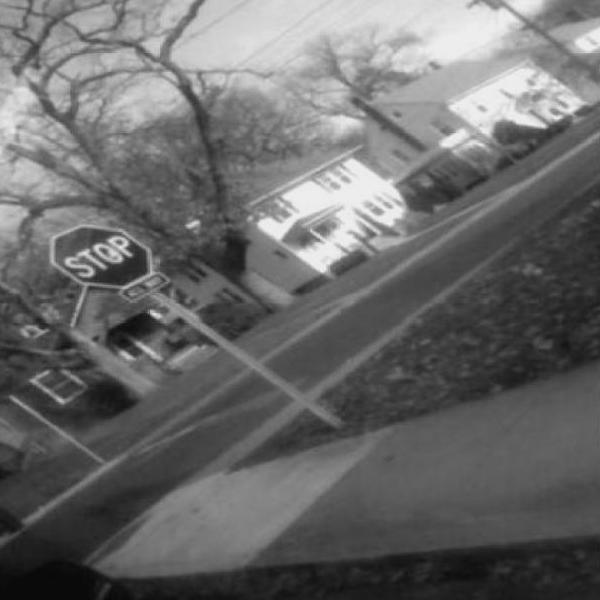stop_sign: (51, 218, 163, 287)
